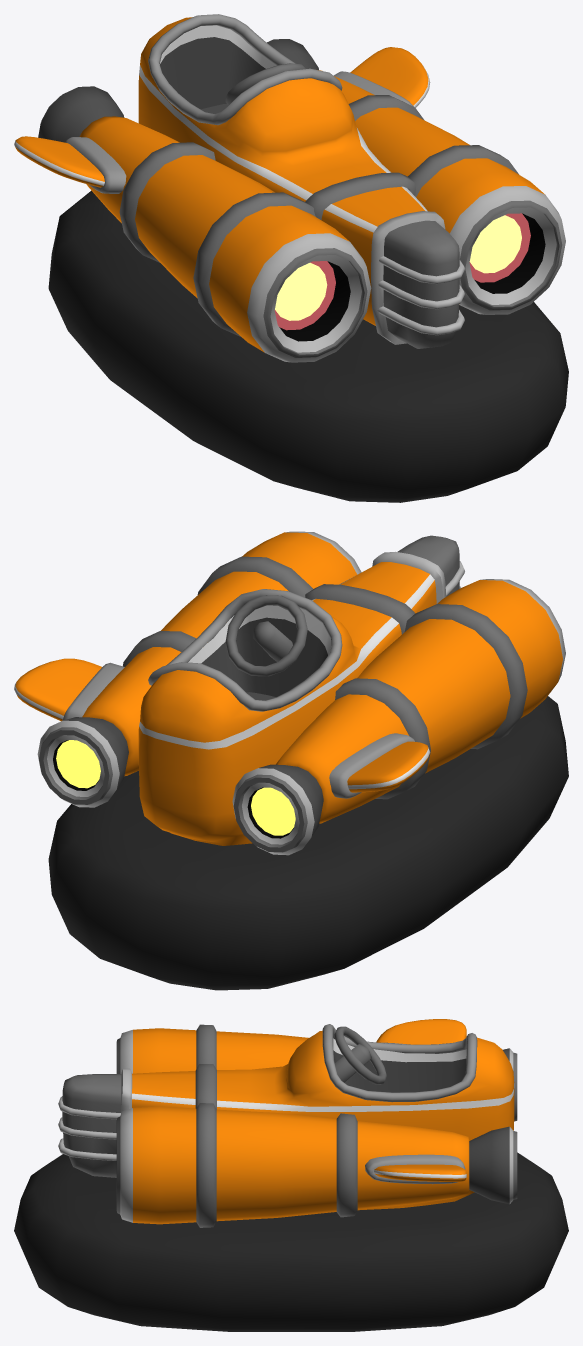
File: mesh_Car_InGame_K.fbx
3 renders of one model, top to bottom at view 1: azimuth 30°, elevation 25°; view 2: azimuth 150°, elevation 25°; view 3: azimuth 270°, elevation 25°, orthographic. The views are drawn at different scales.
Parts seen in each view (by area): view 1: mesh_Car_InGame_K; view 2: mesh_Car_InGame_K; view 3: mesh_Car_InGame_K.
Boxes of the visible parts, x1,y1,x2,y2 form: mesh_Car_InGame_K: [14, 14, 568, 502]; mesh_Car_InGame_K: [14, 531, 568, 990]; mesh_Car_InGame_K: [14, 1019, 568, 1331].
Size of the model in its own units: 1.99 by 1.5 by 2.97.
